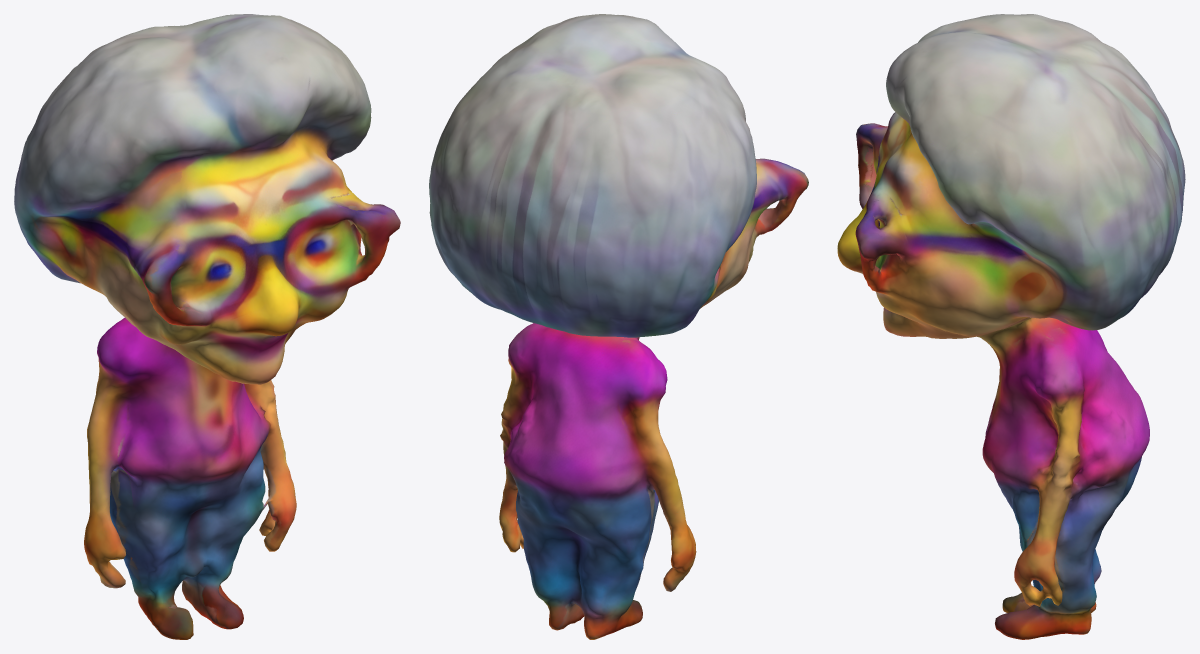
The model's file is _cartoon_character__0712235437_refine.obj.
3 views of the same model, side by side, from view 1: azimuth 30°, elevation 25°; view 2: azimuth 150°, elevation 25°; view 3: azimuth 270°, elevation 25° (orthographic). The views are drawn at different scales.
Parts seen in each view (by area): view 1: Mesh_0; view 2: Mesh_0; view 3: Mesh_0.
Boxes of the visible parts, left/top/right/bottom form: Mesh_0: left=14, top=14, right=400, bottom=639; Mesh_0: left=429, top=14, right=808, bottom=639; Mesh_0: left=837, top=14, right=1185, bottom=639.
Bounding box in the file's own units: 0.6383 × 1.2 × 0.6284.
Materials: 1 (1 with a texture image).
